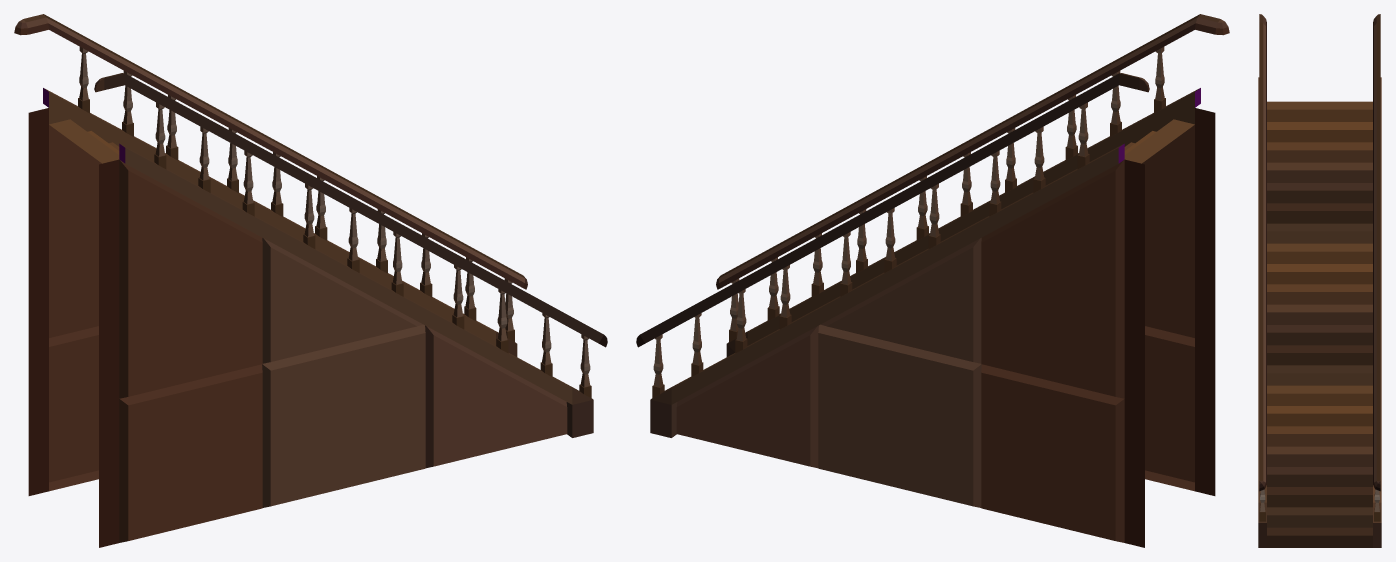
Rendered from HomeA_StairsA.fbx.
The picture shows the model from 3 angles, left to right: view 1: azimuth 30°, elevation 25°; view 2: azimuth 150°, elevation 25°; view 3: azimuth 270°, elevation 25°; orthographic projection. The views are drawn at different scales.
Visible parts, largest first — view 1: HomeA_StairsA; view 2: HomeA_StairsA; view 3: HomeA_StairsA.
Part boxes in pixels (x1,y1,x2,y2): HomeA_StairsA: [14, 14, 607, 547]; HomeA_StairsA: [636, 14, 1229, 547]; HomeA_StairsA: [1258, 14, 1381, 547].
Bounding box in the file's own units: 629 × 556 × 175.
